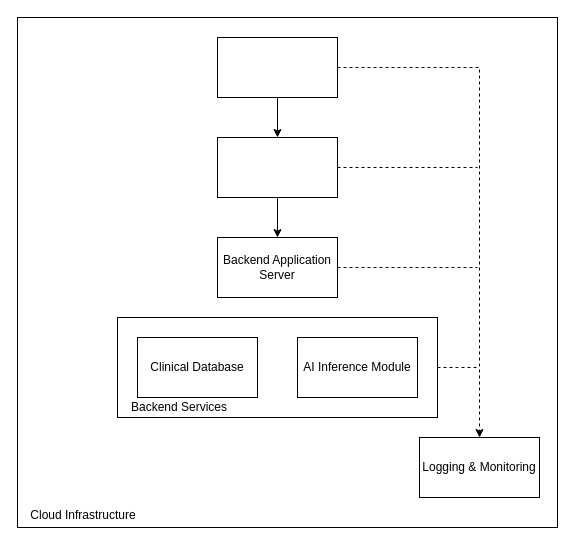
The diagram is 575 pixels wide and 548 high, and some of its shapes have lost their labels. Each missing label, with the centre of its shape:
"Users" belongs at point 277,67.
"Web Application" belongs at point 277,167.
